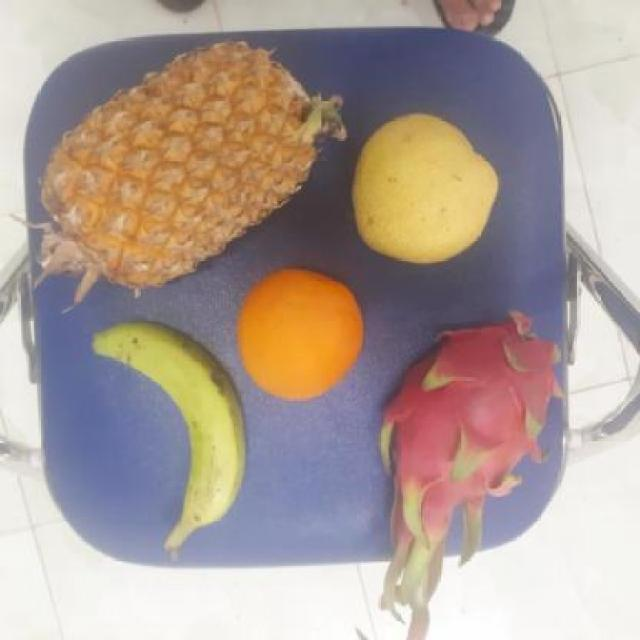banana: (103, 318, 243, 542)
dragon fruit: (370, 314, 572, 548)
oren: (231, 273, 365, 399)
pear: (344, 112, 504, 268)
pineapple: (28, 41, 324, 298)
